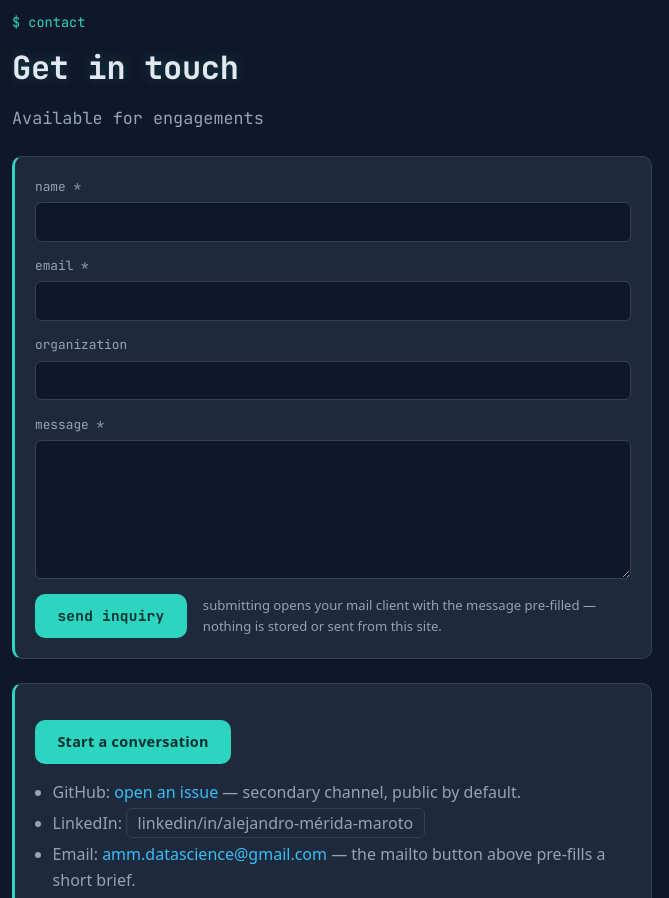
Test: Contact inquiry form › composes a mailto with all fields plus the sender's email, and opens it
Type "Ada Lovelace" into the field labelled "name *".
click(333, 222); type("Ada Lovelace")  # box [35,202,631,242]
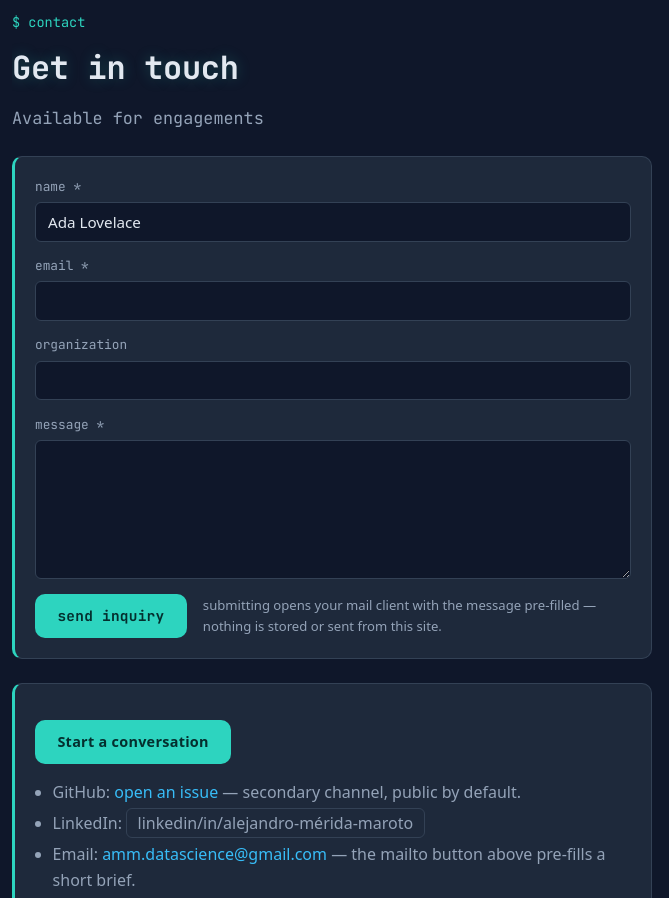
Type "ada@example.com" into the field labelled "email *".
click(333, 301); type("ada@example.com")  # box [35,281,631,321]
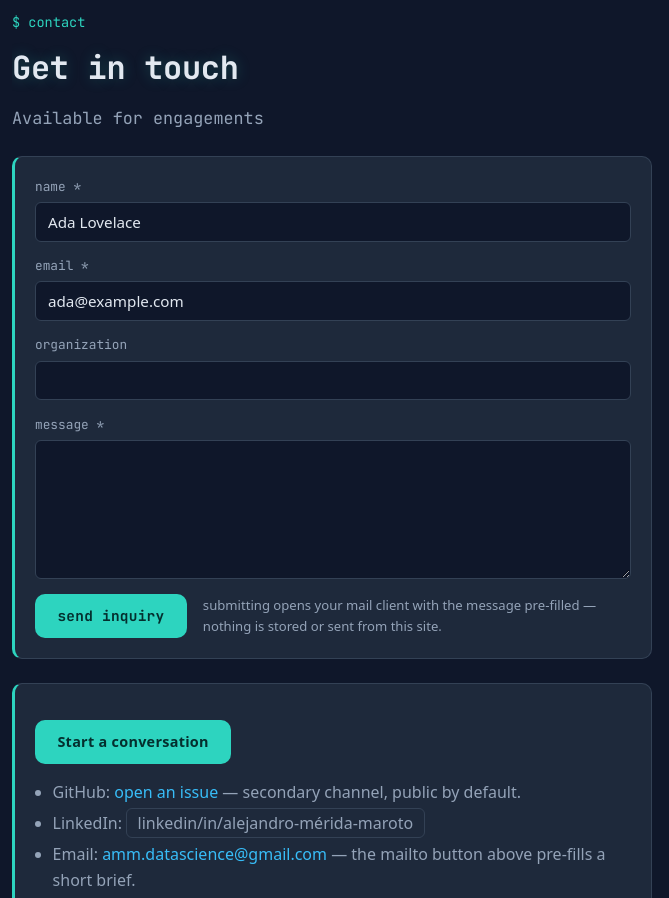
Type "Analytical Engines Ltd" into the field labelled "organization".
click(333, 380); type("Analytical Engines Ltd")  # box [35,361,631,400]
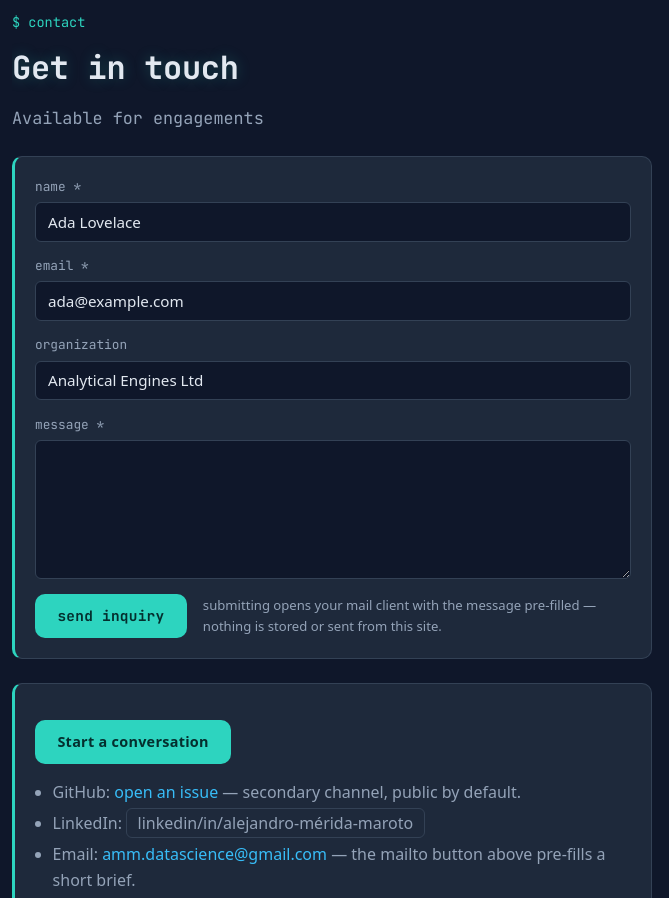
Type "We need a demand forecast we can defend in front of the board." into the text box labelled "message *".
click(333, 510); type("We need a demand forecast we can defend in front of the board.")  # box [35,440,631,579]
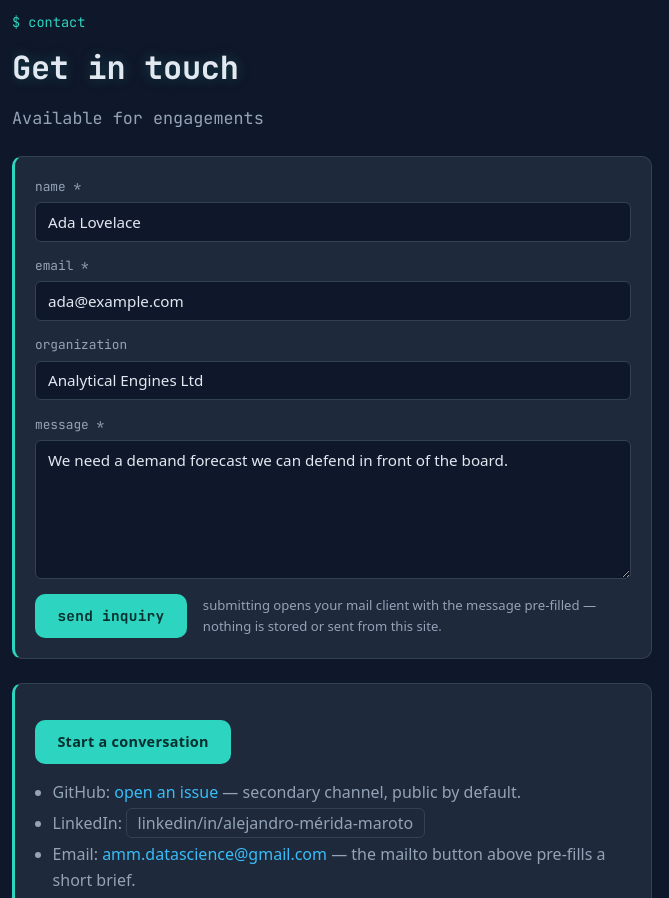
Click the button "send inquiry".
click(111, 616)  # box [35,594,187,638]
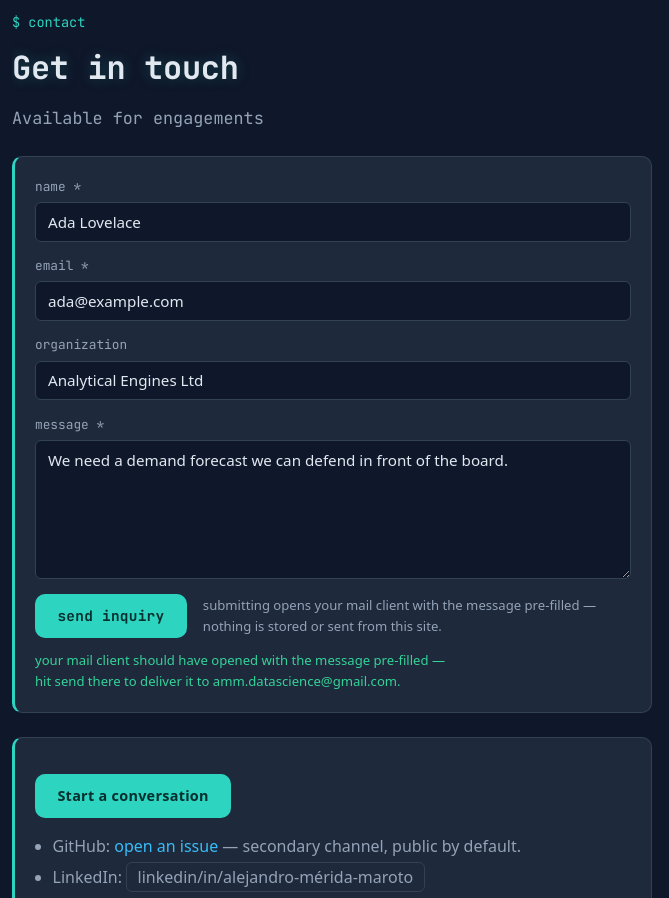
expect the message shows "mail client": met, box [35,651,445,690]
